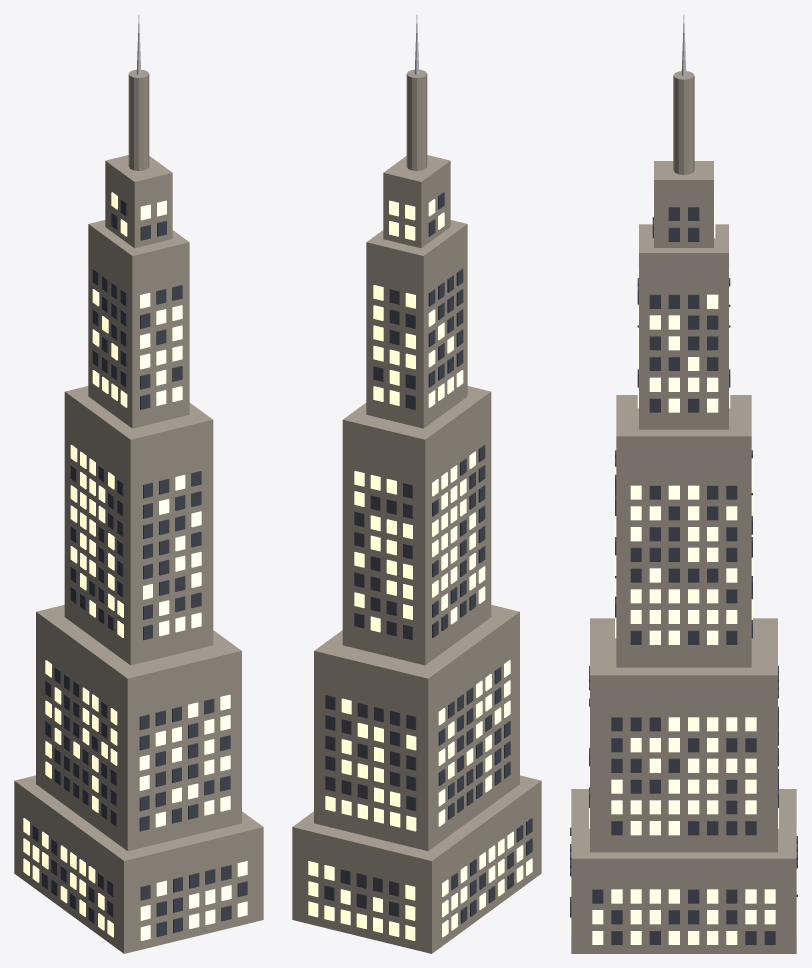
File: empirestate.glb
3 views of the same model, side by side, from view 1: azimuth 30°, elevation 25°; view 2: azimuth 150°, elevation 25°; view 3: azimuth 270°, elevation 25° (orthographic). The views are drawn at different scales.
Parts seen in each view (by area): view 1: esb_t1, esb_t2, esb_t0, esb_t3, esb_wd1, esb_wd2, esb_wl1, esb_wl2, esb_t4, esb_wl0, esb_wd0, esb_wd3 (+2 smaller); view 2: esb_t1, esb_t2, esb_t0, esb_t3, esb_wd1, esb_wl2, esb_wl1, esb_wd2, esb_t4, esb_wl0, esb_wd3, esb_wl3 (+3 smaller); view 3: esb_t1, esb_t2, esb_t0, esb_t3, esb_wl1, esb_wl2, esb_t4, esb_wd2, esb_wd1, esb_wl0, esb_wd3, esb_wl3 (+3 smaller).
Part boxes in pixels (x1=…): esb_t1: x1=36, y1=605, x2=241, y2=850; esb_t2: x1=64, y1=386, x2=213, y2=665; esb_t0: x1=14, y1=775, x2=263, y2=953; esb_t3: x1=88, y1=220, x2=189, y2=428; esb_wd1: x1=45, y1=667, x2=230, y2=831; esb_wd2: x1=70, y1=465, x2=201, y2=640; esb_wl1: x1=45, y1=660, x2=230, y2=827; esb_wl2: x1=70, y1=445, x2=201, y2=637; esb_t4: x1=105, y1=155, x2=172, y2=248; esb_wl0: x1=23, y1=818, x2=247, y2=940; esb_wd0: x1=32, y1=825, x2=247, y2=936; esb_wd3: x1=92, y1=268, x2=182, y2=409; esb_t1: x1=314, y1=605, x2=519, y2=850; esb_t2: x1=342, y1=386, x2=491, y2=665; esb_t0: x1=292, y1=775, x2=541, y2=953; esb_t3: x1=366, y1=220, x2=467, y2=428; esb_wd1: x1=325, y1=667, x2=510, y2=819; esb_wl2: x1=354, y1=451, x2=485, y2=632; esb_wl1: x1=325, y1=660, x2=510, y2=831; esb_wd2: x1=354, y1=445, x2=485, y2=640; esb_t4: x1=383, y1=155, x2=450, y2=248; esb_wl0: x1=308, y1=831, x2=532, y2=940; esb_wd3: x1=373, y1=268, x2=463, y2=409; esb_wl3: x1=373, y1=285, x2=463, y2=407; esb_t1: x1=590, y1=618, x2=777, y2=852; esb_t2: x1=616, y1=395, x2=751, y2=667; esb_t0: x1=571, y1=789, x2=796, y2=953; esb_t3: x1=639, y1=224, x2=728, y2=429; esb_wl1: x1=589, y1=690, x2=778, y2=835; esb_wl2: x1=615, y1=458, x2=752, y2=644; esb_t4: x1=654, y1=161, x2=713, y2=247; esb_wd2: x1=615, y1=450, x2=752, y2=644; esb_wd1: x1=589, y1=666, x2=778, y2=835; esb_wl0: x1=570, y1=827, x2=797, y2=944; esb_wd3: x1=637, y1=278, x2=730, y2=412; esb_wl3: x1=637, y1=270, x2=730, y2=412.
Size of the model in its own units: 22.34 by 133 by 30.34.
